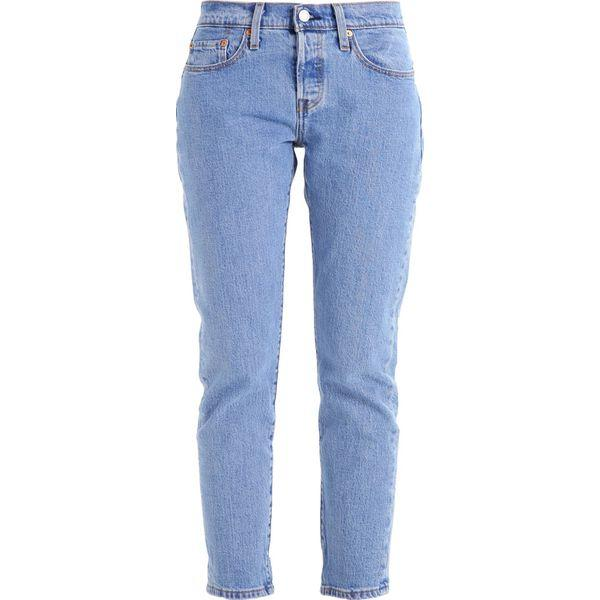Jeans: (169, 0, 431, 600)
